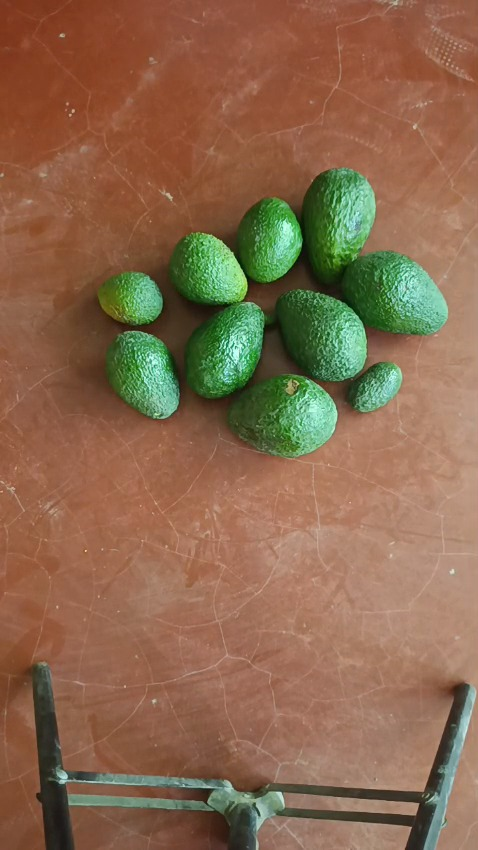Primera: (340, 250, 448, 335), (227, 375, 338, 455), (301, 168, 375, 284), (275, 289, 368, 381), (184, 302, 266, 399)
Segunda: (104, 331, 182, 419), (235, 197, 303, 283), (168, 231, 247, 305)
Tercera: (98, 271, 164, 326), (346, 361, 402, 412)
